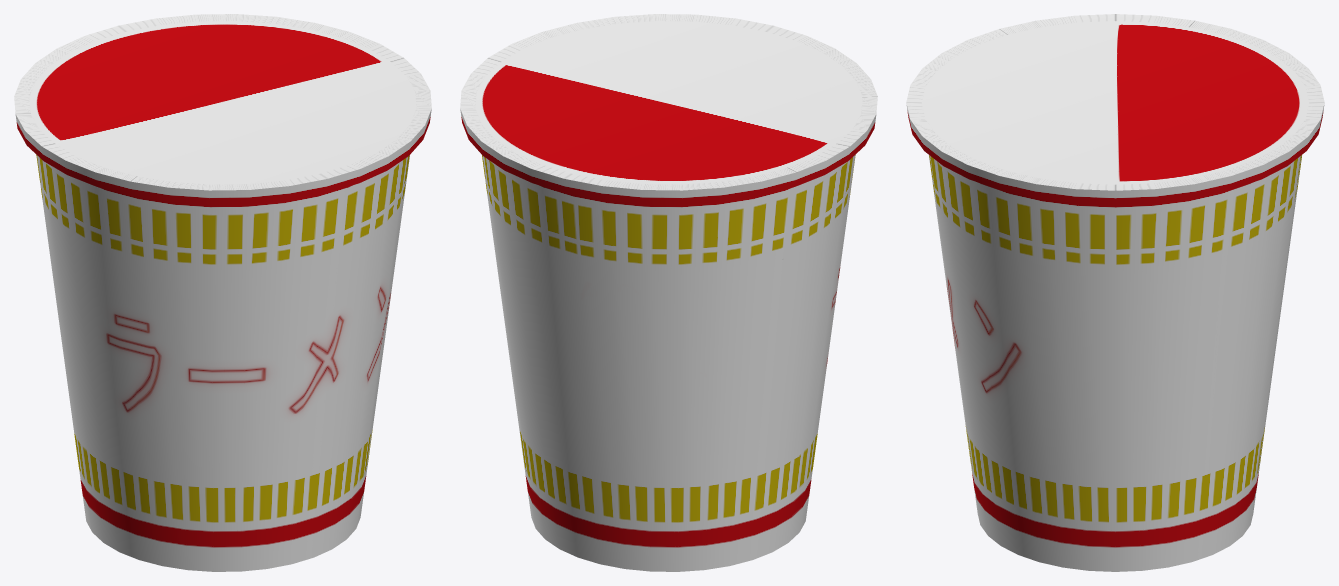
The model's file is ramen.obj.
3 views of the same model, side by side, from view 1: azimuth 30°, elevation 25°; view 2: azimuth 150°, elevation 25°; view 3: azimuth 270°, elevation 25° (orthographic).
Visible parts, largest first — view 1: Ramen_Cylinder; view 2: Ramen_Cylinder; view 3: Ramen_Cylinder.
Part boxes in pixels (<box>): Ramen_Cylinder: <box>14,14,431,571</box>; Ramen_Cylinder: <box>460,14,877,571</box>; Ramen_Cylinder: <box>906,14,1324,571</box>.
Size of the model in its own units: 4.48 by 4.86 by 4.48.
